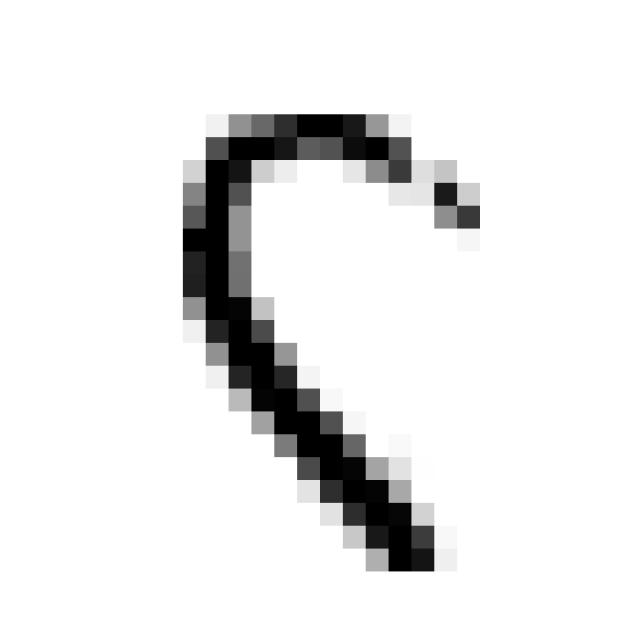2 -two-: (160, 93, 500, 594)
